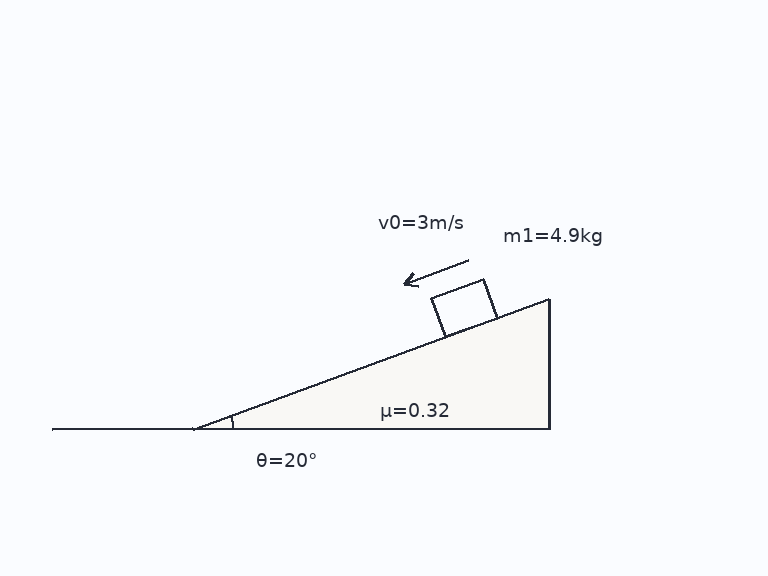block: (429, 277, 499, 338)
ramp: (191, 296, 551, 430)
